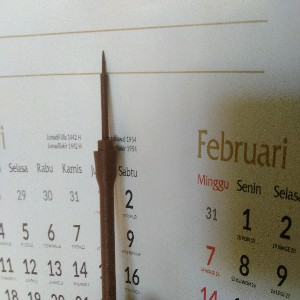solder: (92, 49, 119, 300)
